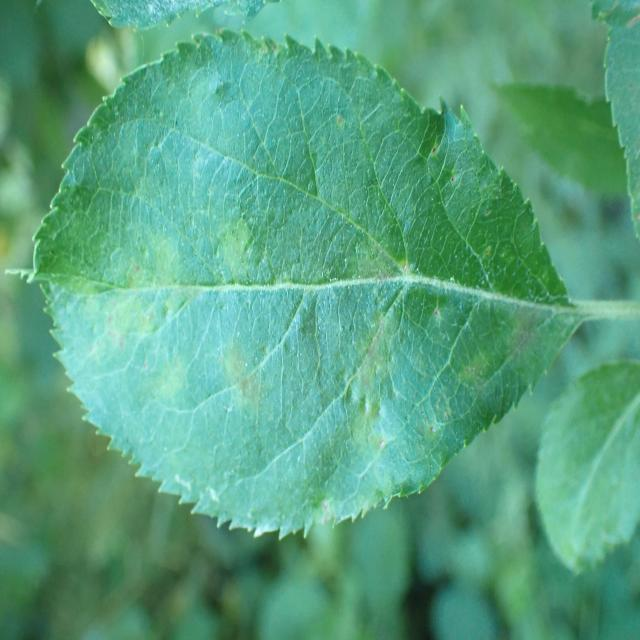scab: (46, 110, 552, 500)
